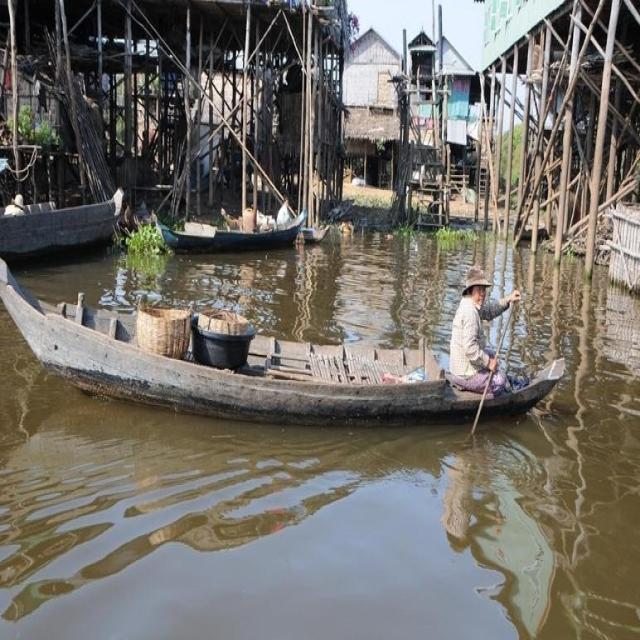Hyacinth: (126, 219, 167, 263), (436, 228, 479, 244), (389, 223, 422, 243)
boat: (1, 266, 571, 426), (154, 216, 318, 253)
